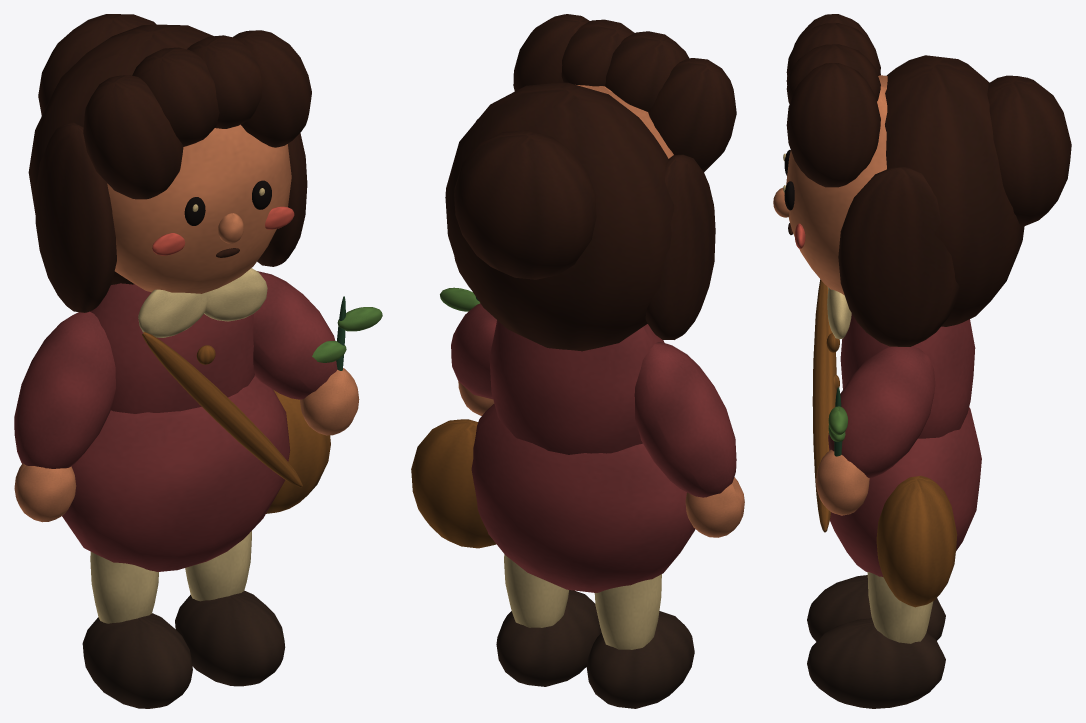
File: traveler.glb
3 views of the same model, side by side, from view 1: azimuth 30°, elevation 25°; view 2: azimuth 150°, elevation 25°; view 3: azimuth 270°, elevation 25° (orthographic). The views are drawn at different scales.
Parts seen in each view (by area): view 1: Tunic skirt, Face, Left sleeve, Side hair, Tunic upper body, Swept fringe, Rounded boots, Rounded boots.001, Right sleeve, Back hair, Swept fringe.003, Swept fringe.001 (+14 smaller); view 2: Back hair, Tunic skirt, Hair bun, Tunic upper body, Left sleeve, Side hair, Little herb bag, Swept fringe, Rounded boots, Rounded boots.001, Swept fringe.001, Linen leggings (+8 smaller); view 3: Back hair, Side hair.001, Right sleeve, Swept fringe.003, Hair bun, Rounded boots.001, Tunic skirt, Little herb bag, Tunic upper body, Face, Satchel strap, Rounded boots (+6 smaller).
Part boxes in pixels (left/top/right/bottom): Tunic skirt: left=62, top=376, right=290, bottom=571; Face: left=107, top=124, right=291, bottom=293; Left sleeve: left=14, top=311, right=115, bottom=468; Side hair: left=35, top=122, right=116, bottom=312; Tunic upper body: left=90, top=283, right=254, bottom=413; Swept fringe: left=83, top=75, right=183, bottom=199; Rounded boots: left=82, top=613, right=192, bottom=708; Rounded boots.001: left=175, top=590, right=285, bottom=686; Right sleeve: left=253, top=271, right=337, bottom=399; Back hair: left=28, top=24, right=213, bottom=284; Swept fringe.003: left=233, top=30, right=311, bottom=147; Swept fringe.001: left=132, top=47, right=219, bottom=146; Back hair: left=445, top=82, right=674, bottom=351; Tunic skirt: left=471, top=404, right=695, bottom=592; Hair bun: left=454, top=130, right=596, bottom=279; Tunic upper body: left=489, top=320, right=664, bottom=454; Left sleeve: left=634, top=342, right=736, bottom=497; Side hair: left=645, top=154, right=715, bottom=339; Little herb bag: left=411, top=419, right=496, bottom=548; Swept fringe: left=648, top=58, right=736, bottom=171; Rounded boots: left=586, top=611, right=694, bottom=708; Rounded boots.001: left=496, top=590, right=601, bottom=686; Swept fringe.001: left=605, top=31, right=689, bottom=111; Linen leggings: left=594, top=574, right=661, bottom=649; Back hair: left=885, top=55, right=1024, bottom=326; Side hair.001: left=838, top=167, right=959, bottom=346; Right sleeve: left=828, top=346, right=935, bottom=477; Swept fringe.003: left=786, top=63, right=880, bottom=187; Hair bun: left=987, top=75, right=1071, bottom=226; Rounded boots.001: left=807, top=618, right=945, bottom=708; Tunic skirt: left=830, top=390, right=981, bottom=576; Little herb bag: left=876, top=475, right=957, bottom=607; Tunic upper body: left=840, top=313, right=975, bottom=438; Face: left=786, top=75, right=887, bottom=295; Satchel strap: left=812, top=279, right=836, bottom=532; Rounded boots: left=807, top=575, right=945, bottom=641.
Size of the model in its own units: 0.838 by 1.58 by 0.665.
10 materials, 10 textured.
